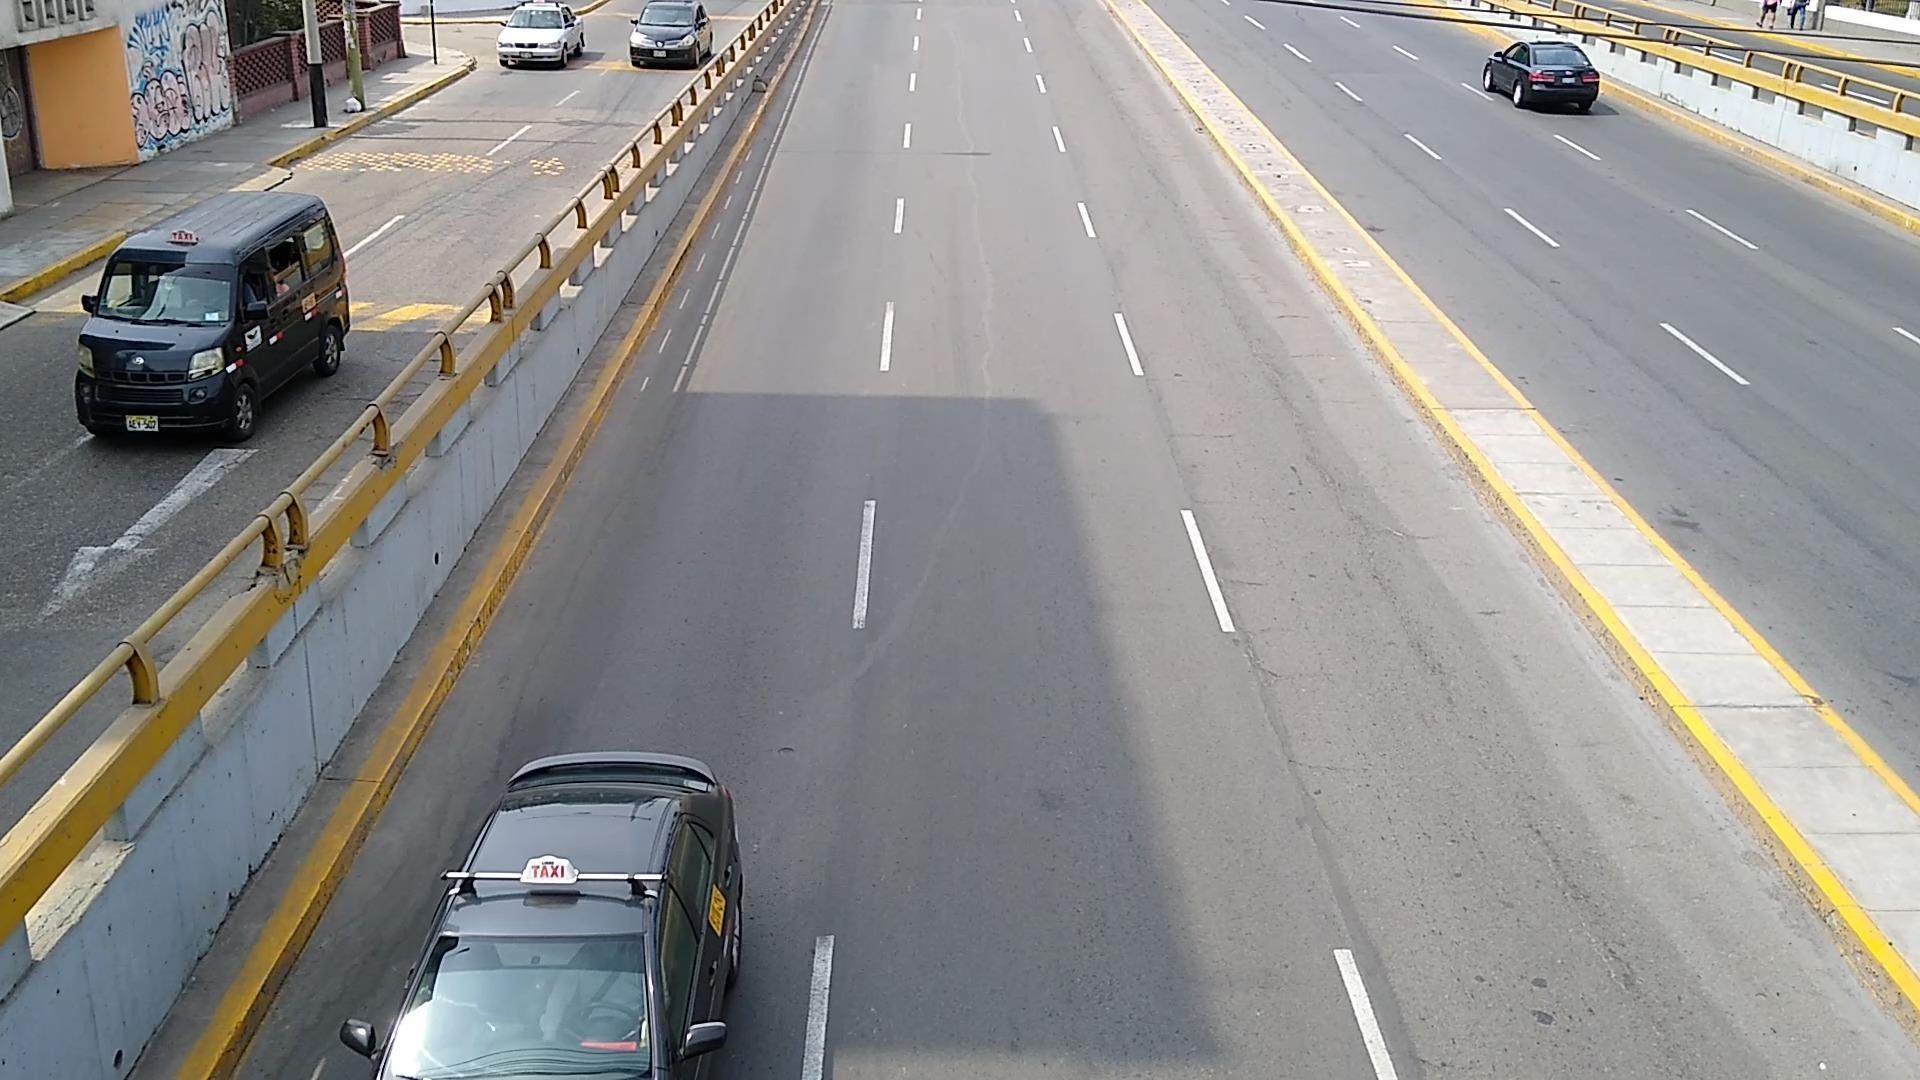car: (345, 754, 742, 1079), (1481, 37, 1601, 112), (498, 0, 585, 67), (630, 0, 712, 67)
minivan: (75, 191, 348, 440)
